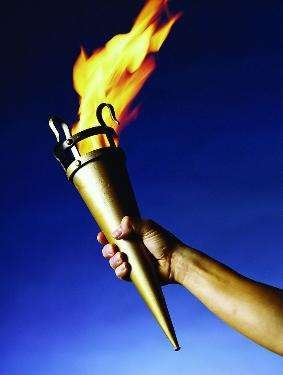fire: (70, 1, 181, 158)
